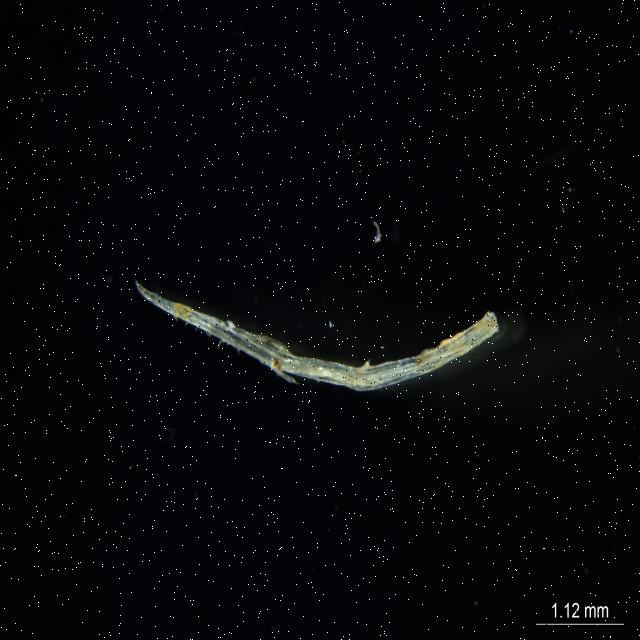Fibre: (127, 276, 515, 400)
